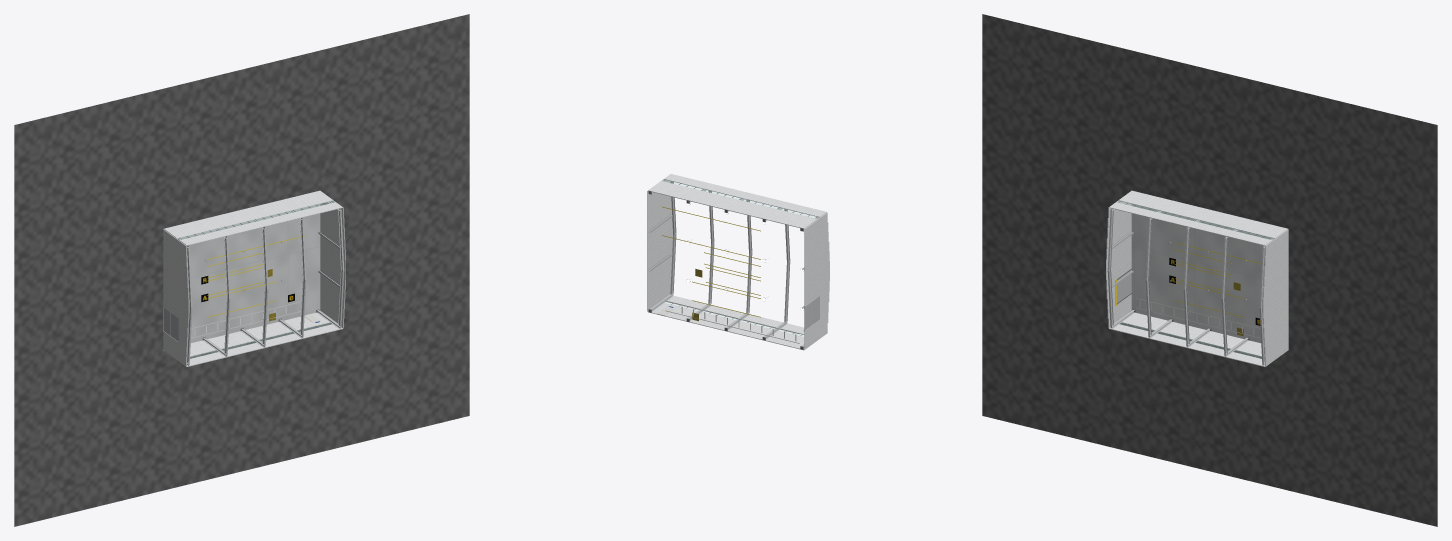
File: Site__Hall.glb
3 views of the same model, side by side, from view 1: azimuth 30°, elevation 25°; view 2: azimuth 150°, elevation 25°; view 3: azimuth 330°, elevation 25° (orthographic).
Parts seen in each view (by area): view 1: /World/Site/Hall/Visual/Asphalt, /World/Site/Hall/Visual/HallFloor, /World/Site/Hall/Visual/CladdingWhite, /World/Site/Hall/Visual/SteelPaintGrey, /World/Site/Hall/Visual/WindowGlass, /World/Site/Hall/Visual/LineYellow; view 2: /World/Site/Hall/Visual/CladdingWhite, /World/Site/Hall/Visual/SteelPaintGrey, /World/Site/Hall/Visual/LineYellow; view 3: /World/Site/Hall/Visual/Asphalt, /World/Site/Hall/Visual/HallFloor, /World/Site/Hall/Visual/CladdingWhite, /World/Site/Hall/Visual/SteelPaintGrey, /World/Site/Hall/Visual/WindowGlass.
Boxes of the visible parts, left/top/right/bottom form: /World/Site/Hall/Visual/Asphalt: left=14, top=14, right=469, bottom=526; /World/Site/Hall/Visual/HallFloor: left=163, top=204, right=320, bottom=350; /World/Site/Hall/Visual/CladdingWhite: left=163, top=190, right=345, bottom=366; /World/Site/Hall/Visual/SteelPaintGrey: left=177, top=201, right=344, bottom=365; /World/Site/Hall/Visual/WindowGlass: left=178, top=201, right=334, bottom=358; /World/Site/Hall/Visual/LineYellow: left=207, top=235, right=305, bottom=317; /World/Site/Hall/Visual/CladdingWhite: left=647, top=174, right=829, bottom=350; /World/Site/Hall/Visual/SteelPaintGrey: left=648, top=180, right=819, bottom=348; /World/Site/Hall/Visual/LineYellow: left=662, top=206, right=760, bottom=317; /World/Site/Hall/Visual/Asphalt: left=982, top=14, right=1437, bottom=526; /World/Site/Hall/Visual/HallFloor: left=1131, top=204, right=1288, bottom=350; /World/Site/Hall/Visual/CladdingWhite: left=1106, top=190, right=1288, bottom=366; /World/Site/Hall/Visual/SteelPaintGrey: left=1107, top=201, right=1274, bottom=365; /World/Site/Hall/Visual/WindowGlass: left=1117, top=201, right=1273, bottom=358.
Bounding box in the file's own units: 60 × 50.6 × 5.86.
Materials: 19 (8 with a texture image).
